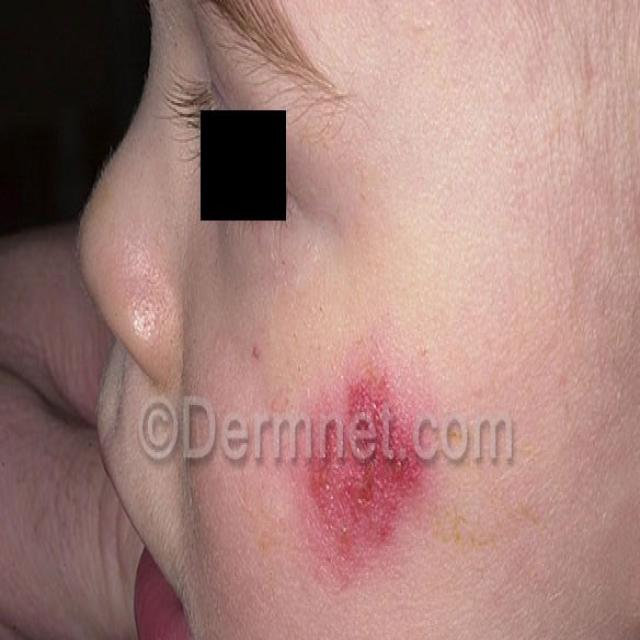Viral Infections: (292, 339, 445, 618), (250, 321, 277, 396)
